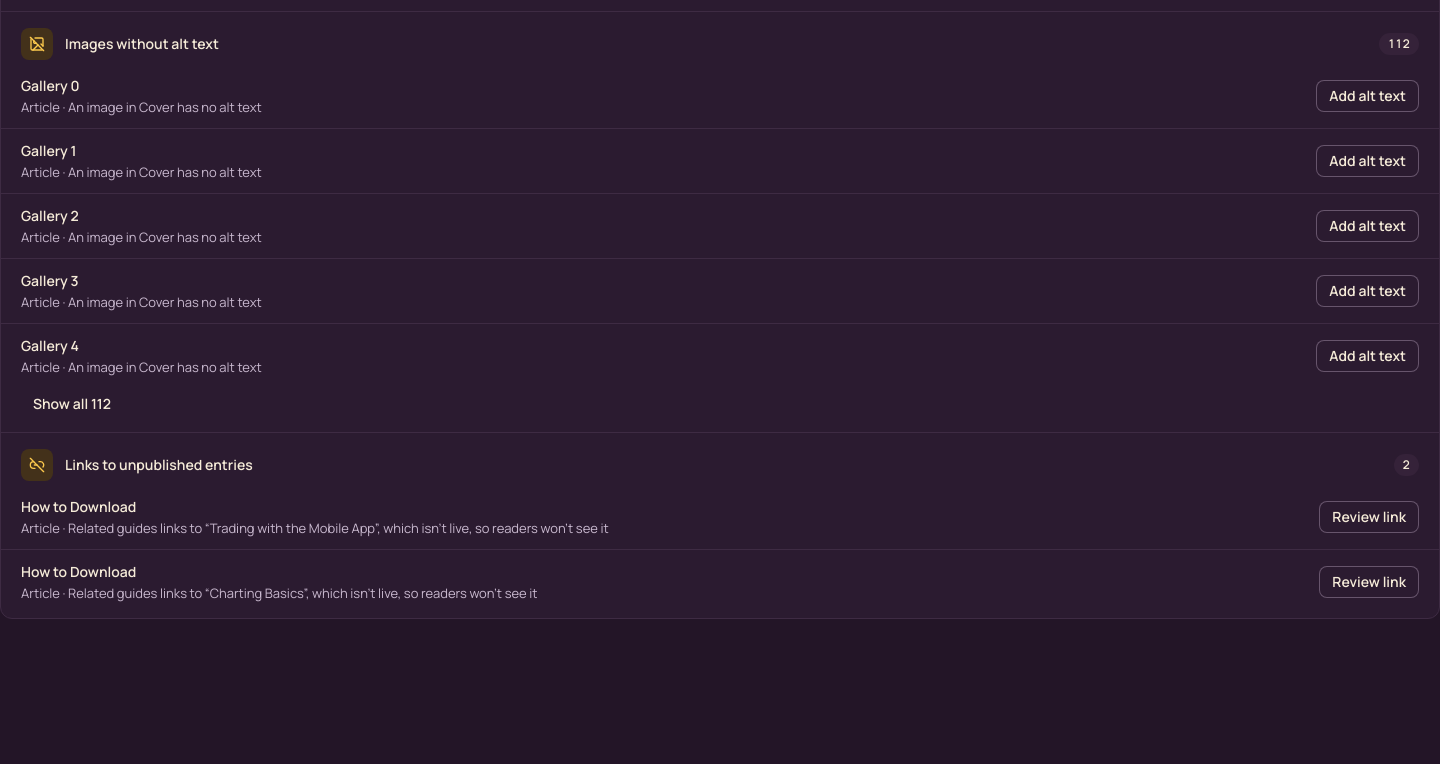
Test case: Needs you › pages one group by its own count: preview, Show all, then Load more inside the group
Click the button "Show all 112" at (72, 404), box [21,388,123,420]
(page scrolled)
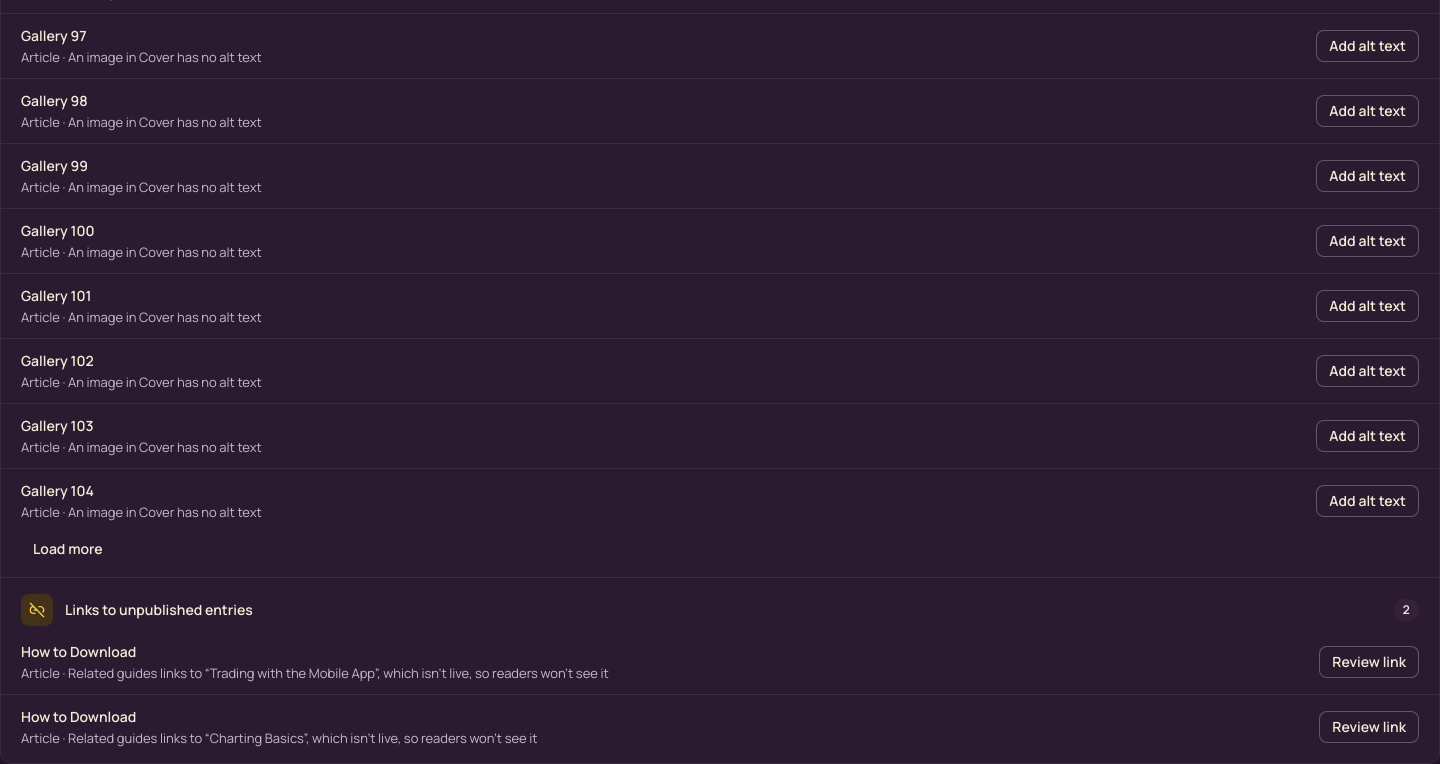
expect the text "Gallery 104" is shown: met, box [21,481,94,500]
Click the button "Load more" at (68, 549), box [21,533,115,565]
(page scrolled)
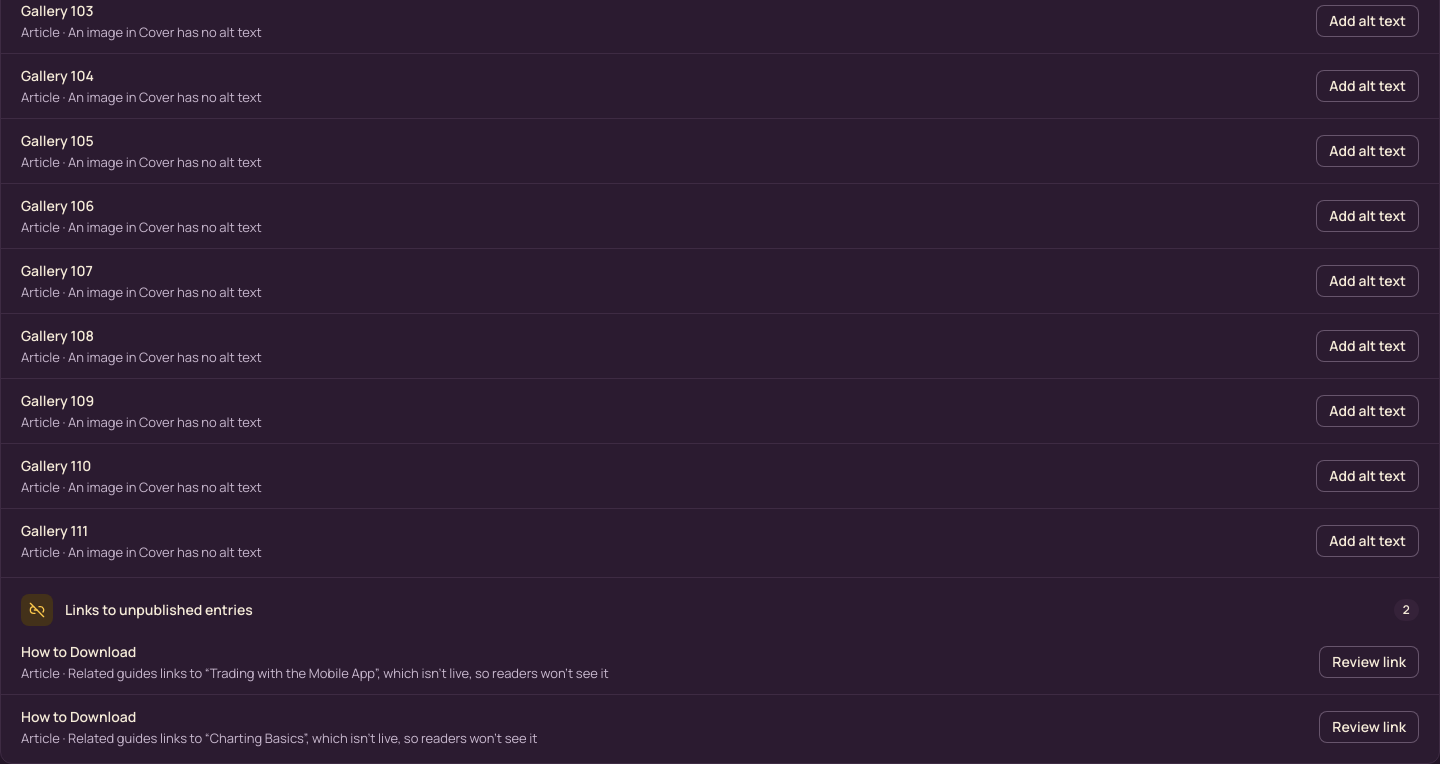
expect the text "Gallery 111" is shown: met, box [21,521,88,540]
expect the button "Load more" is gone: met
